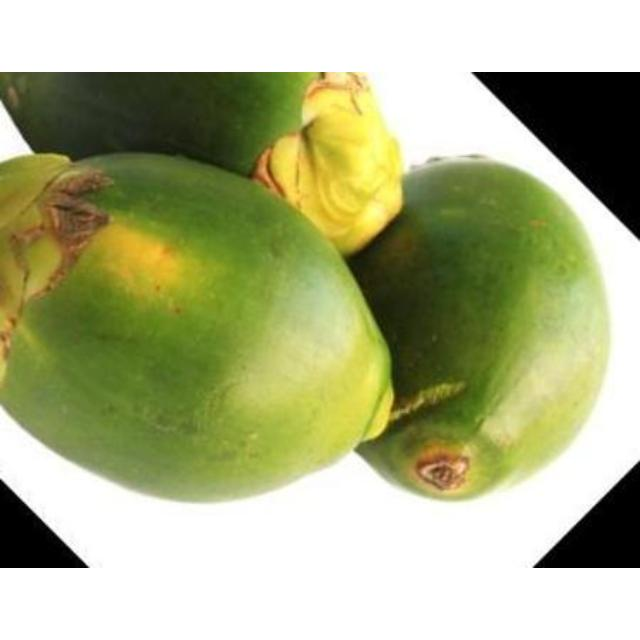good: (0, 153, 394, 507), (344, 157, 609, 503)
